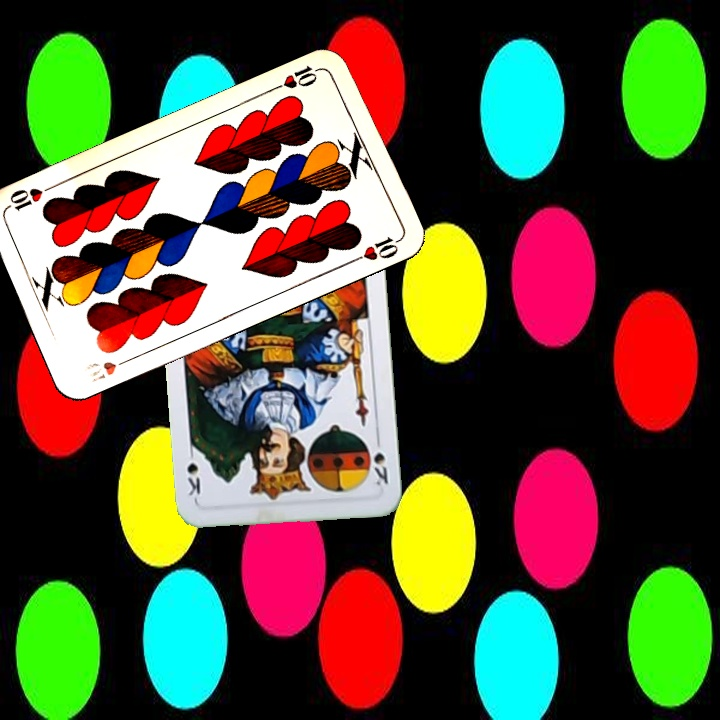H10: (79, 353, 135, 386), (269, 61, 325, 93)
SK: (370, 431, 391, 488)
